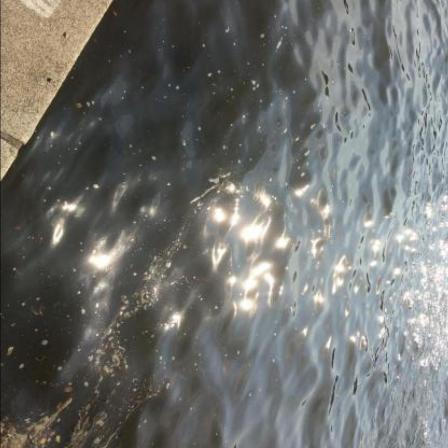Plastic bag - wrapper: (219, 180, 237, 195)
